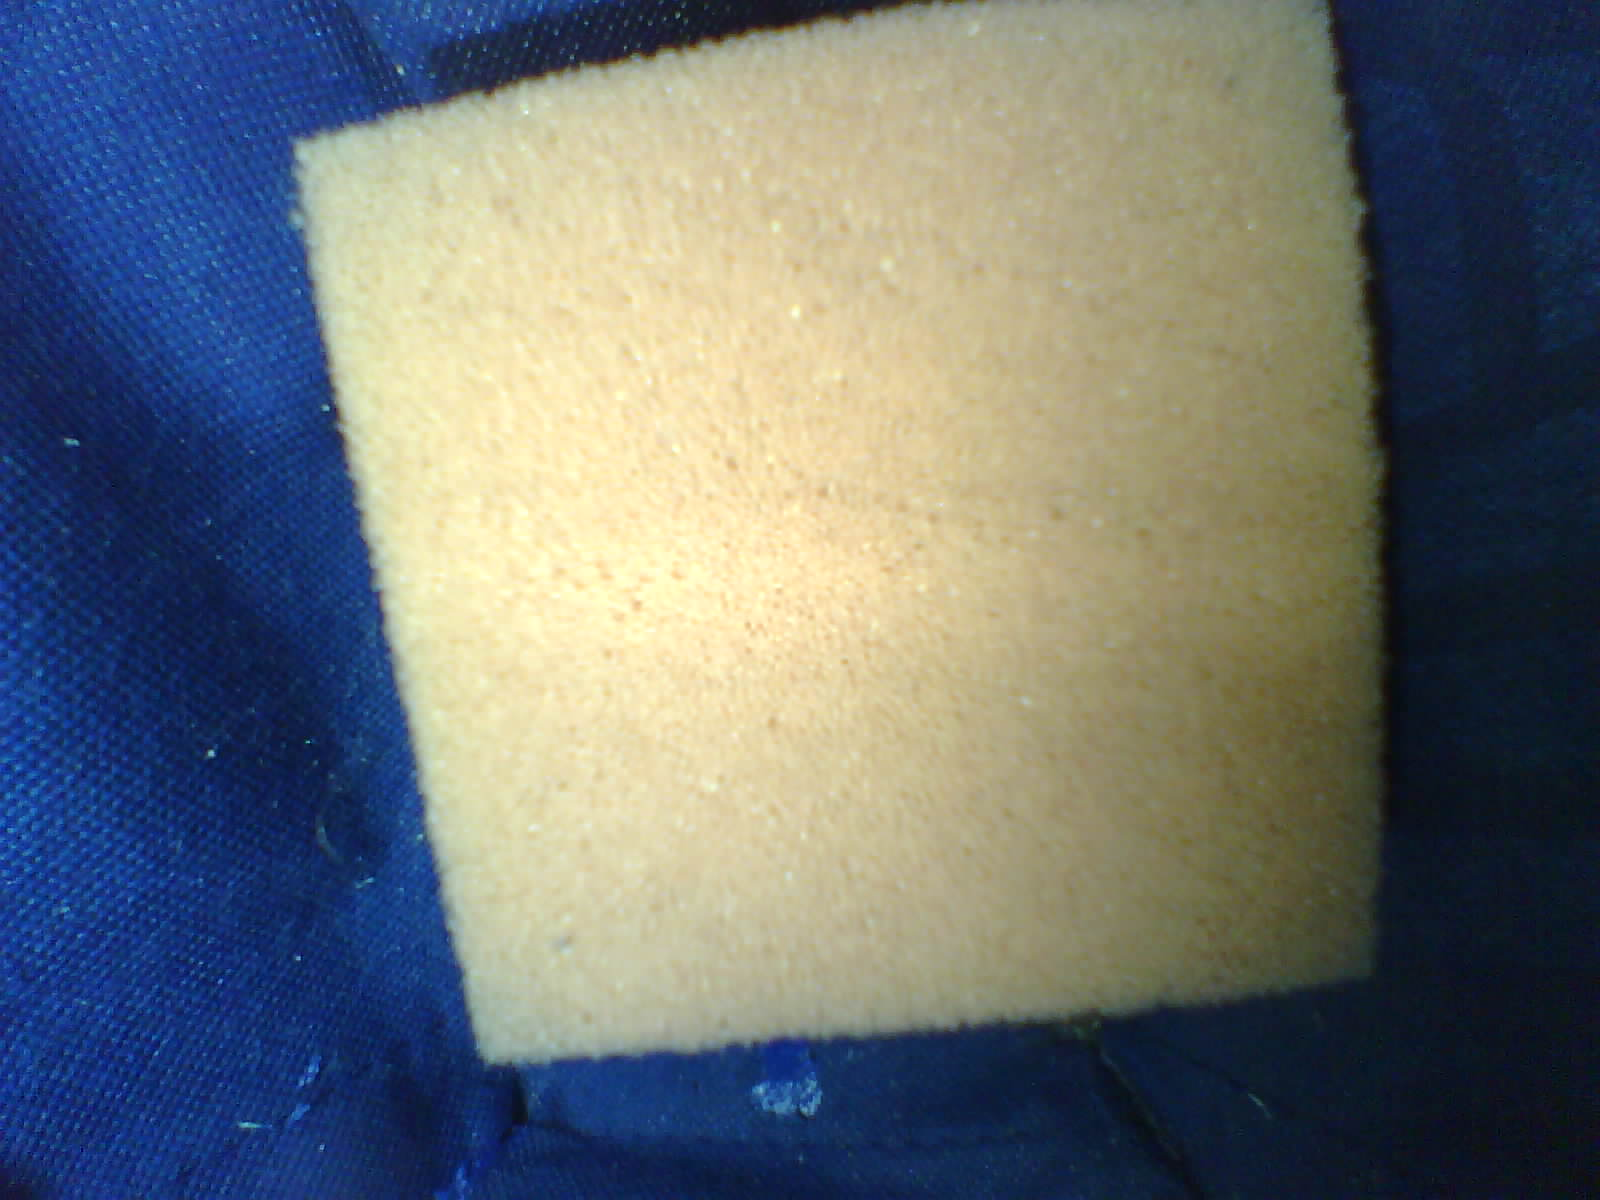cube-soft: (275, 0, 1439, 1093)
